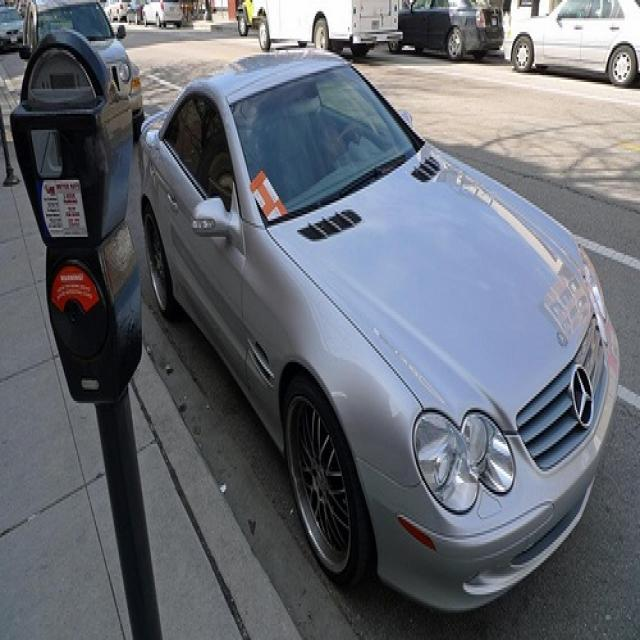car: (134, 41, 618, 615), (20, 0, 144, 125), (503, 0, 639, 80), (239, 0, 401, 59), (389, 0, 503, 50), (0, 2, 22, 48), (140, 0, 180, 25), (105, 0, 131, 18), (124, 0, 138, 20)
truck: (250, 0, 404, 50)
